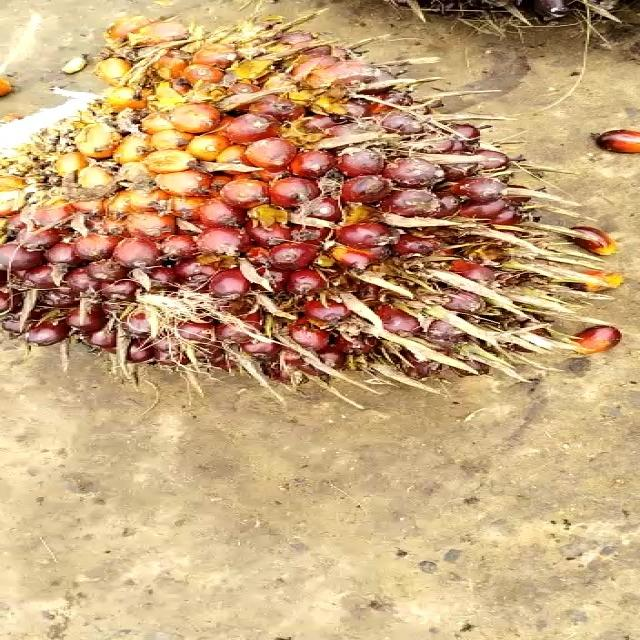palm oil: (0, 19, 573, 403)
